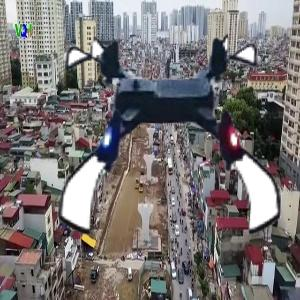drone: (59, 26, 288, 255)
